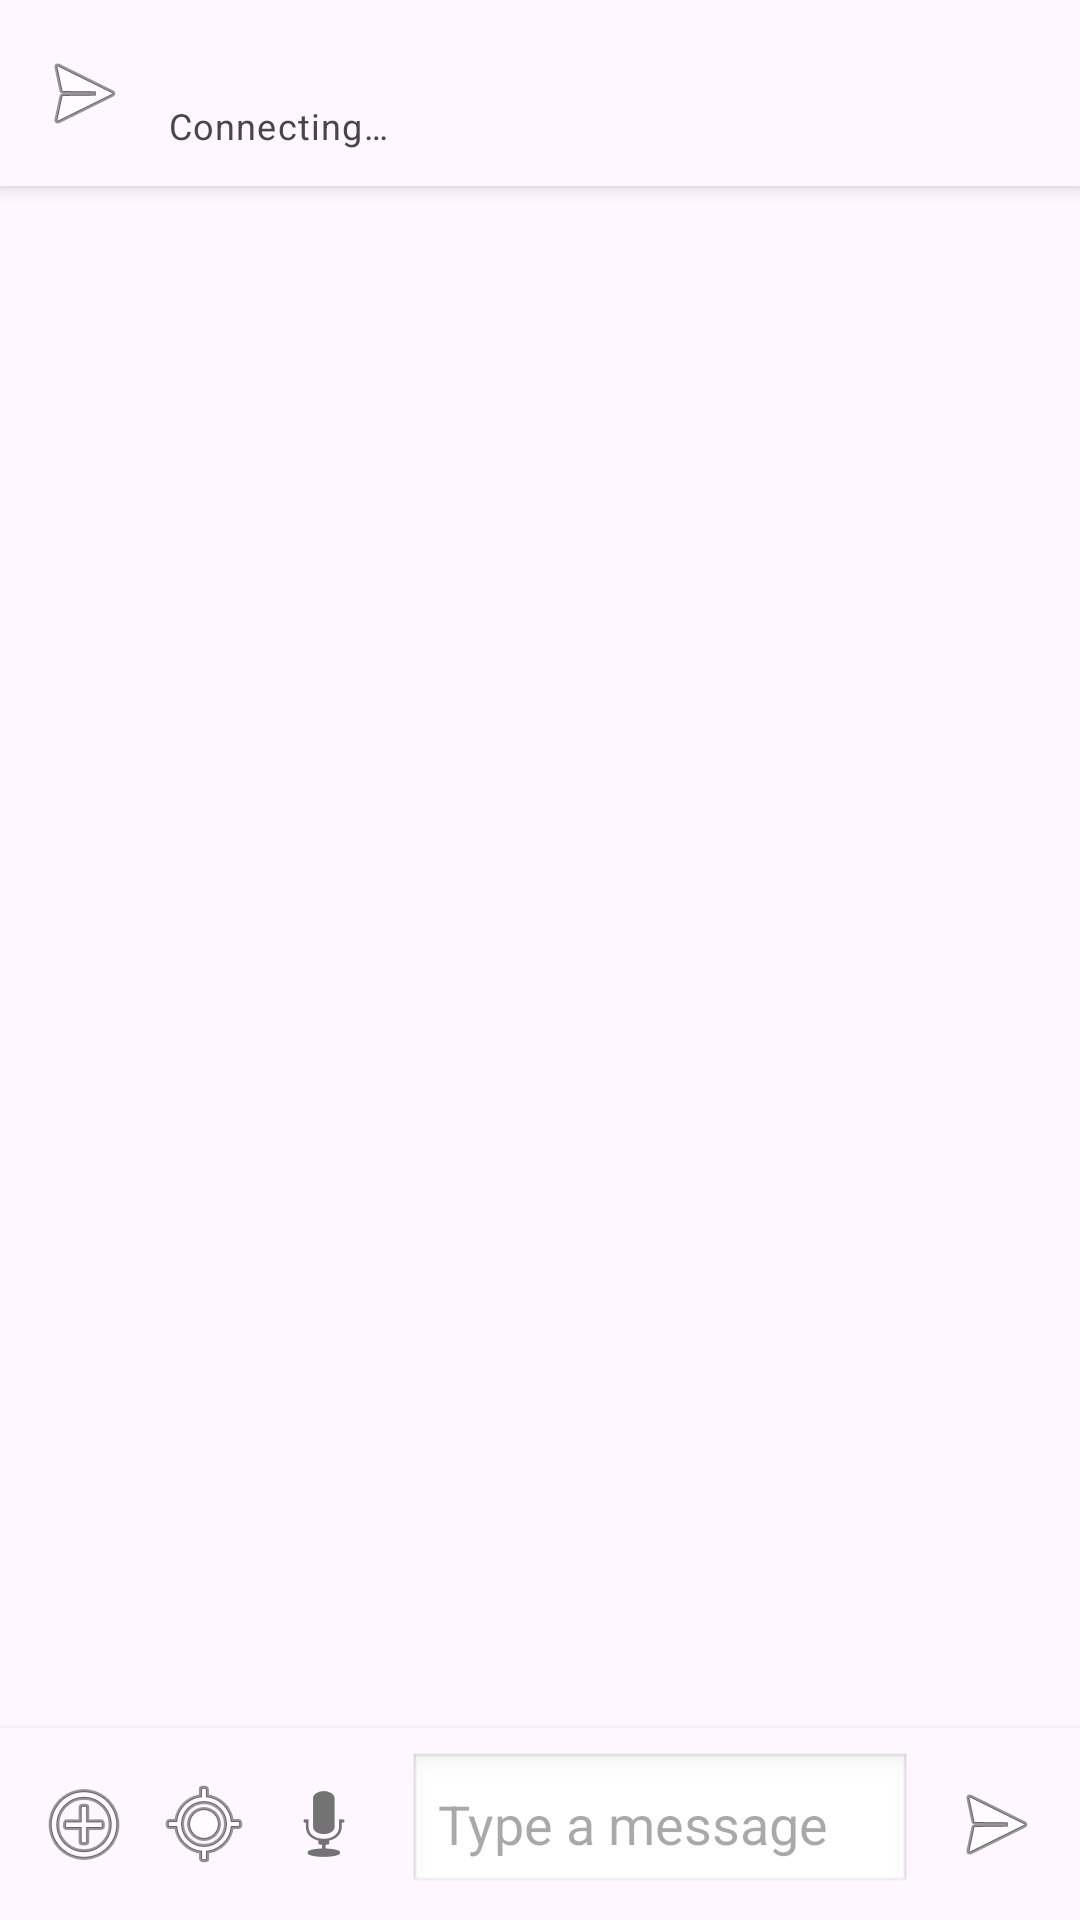

Icon click points for this 1080 × 1920 phone screenshot, format [x,y]:
Attach file: [84,1824]
Hold to record: [324,1824]
Send: [997,1824]
Share Location: [204,1824]
